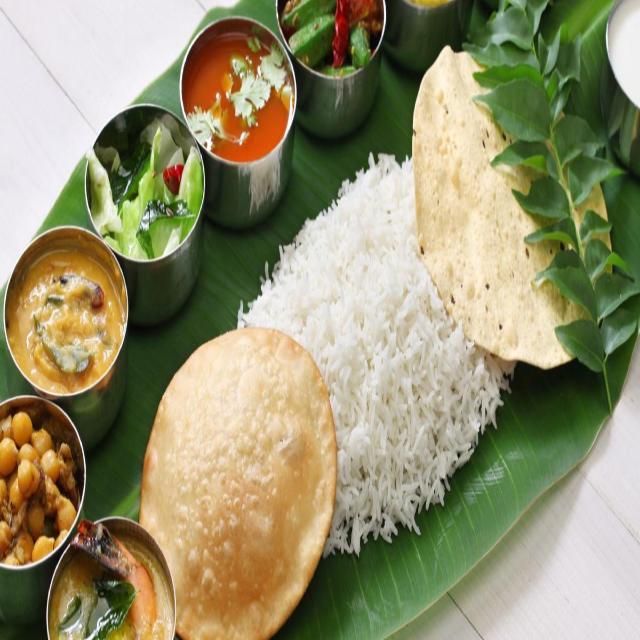dal: (18, 244, 123, 388)
papad: (417, 44, 605, 348)
rice: (302, 150, 435, 509)
roti: (140, 329, 346, 638)
sambar-rasam: (180, 14, 292, 190)
veg: (0, 399, 81, 563)
